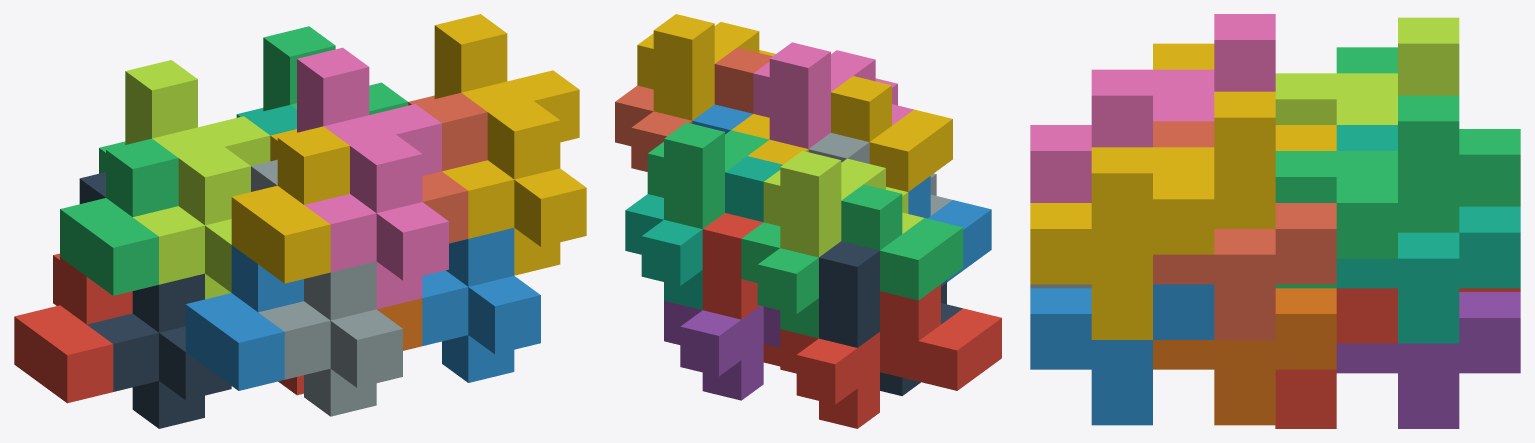
The model's file is tiling.obj.
3 views of the same model, side by side, from view 1: azimuth 30°, elevation 25°; view 2: azimuth 150°, elevation 25°; view 3: azimuth 270°, elevation 25° (orthographic). The views are drawn at different scales.
Visible parts, largest first — view 1: copy_2_domain_8, copy_2_domain_4, copy_2_domain_3, copy_2_domain_2, copy_2_domain_6, copy_1_domain_4, copy_1_domain_3, copy_2_domain_1, copy_1_domain_1, copy_1_domain_2, copy_1_domain_8, copy_2_domain_7 (+2 smaller); view 2: copy_1_domain_1, copy_1_domain_3, copy_1_domain_4, copy_2_domain_3, copy_2_domain_4, copy_1_domain_7, copy_2_domain_8, copy_1_domain_5, copy_2_domain_7, copy_2_domain_1, copy_1_domain_8, copy_2_domain_5 (+3 smaller); view 3: copy_2_domain_8, copy_2_domain_7, copy_2_domain_4, copy_1_domain_7, copy_1_domain_8, copy_2_domain_6, copy_1_domain_5, copy_1_domain_6, copy_2_domain_3, copy_2_domain_5, copy_1_domain_3, copy_1_domain_4.
Boxes of the visible parts, bbox=[...] form: copy_2_domain_8: bbox=[434, 14, 586, 275]; copy_2_domain_4: bbox=[297, 47, 448, 308]; copy_2_domain_3: bbox=[125, 60, 270, 299]; copy_2_domain_2: bbox=[251, 159, 402, 416]; copy_2_domain_6: bbox=[422, 228, 540, 382]; copy_1_domain_4: bbox=[231, 126, 349, 283]; copy_1_domain_3: bbox=[60, 138, 178, 295]; copy_2_domain_1: bbox=[79, 172, 231, 428]; copy_1_domain_1: bbox=[14, 253, 132, 403]; copy_1_domain_2: bbox=[185, 245, 303, 390]; copy_1_domain_8: bbox=[408, 93, 487, 243]; copy_2_domain_7: bbox=[263, 26, 408, 114]; copy_1_domain_1: bbox=[780, 284, 1001, 428]; copy_1_domain_3: bbox=[741, 184, 963, 338]; copy_1_domain_4: bbox=[731, 76, 952, 191]; copy_2_domain_3: bbox=[763, 151, 923, 257]; copy_2_domain_4: bbox=[753, 42, 913, 148]; copy_1_domain_7: bbox=[625, 156, 782, 309]; copy_2_domain_8: bbox=[637, 14, 775, 120]; copy_1_domain_5: bbox=[664, 301, 780, 400]; copy_2_domain_7: bbox=[647, 122, 769, 229]; copy_2_domain_1: bbox=[819, 241, 962, 395]; copy_1_domain_8: bbox=[615, 47, 772, 171]; copy_2_domain_5: bbox=[702, 213, 780, 366]; copy_2_domain_8: bbox=[1030, 91, 1275, 339]; copy_2_domain_7: bbox=[1275, 95, 1459, 288]; copy_2_domain_4: bbox=[1030, 14, 1275, 202]; copy_1_domain_7: bbox=[1336, 125, 1520, 343]; copy_1_domain_8: bbox=[1153, 121, 1336, 339]; copy_2_domain_6: bbox=[1030, 284, 1214, 425]; copy_1_domain_5: bbox=[1336, 292, 1520, 428]; copy_1_domain_6: bbox=[1153, 288, 1336, 425]; copy_2_domain_3: bbox=[1275, 17, 1459, 124]; copy_2_domain_5: bbox=[1275, 288, 1397, 428]; copy_1_domain_3: bbox=[1336, 47, 1520, 206]; copy_1_domain_4: bbox=[1153, 43, 1336, 150].
Size of the model in its own units: 10 by 7 by 8.
